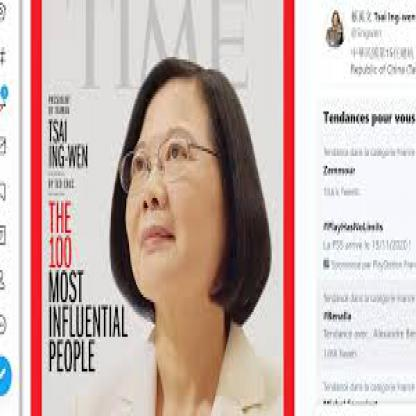paper: (29, 0, 293, 414)
